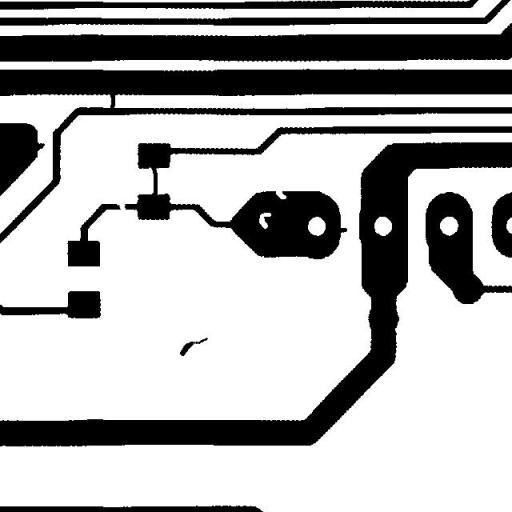copper: (172, 330, 215, 363)
mousebite: (268, 182, 294, 206)
open: (107, 194, 133, 219)
pin-hole: (252, 205, 278, 236)
short: (143, 158, 165, 204), (102, 82, 122, 118)
spur: (27, 136, 52, 158), (332, 220, 354, 240)
